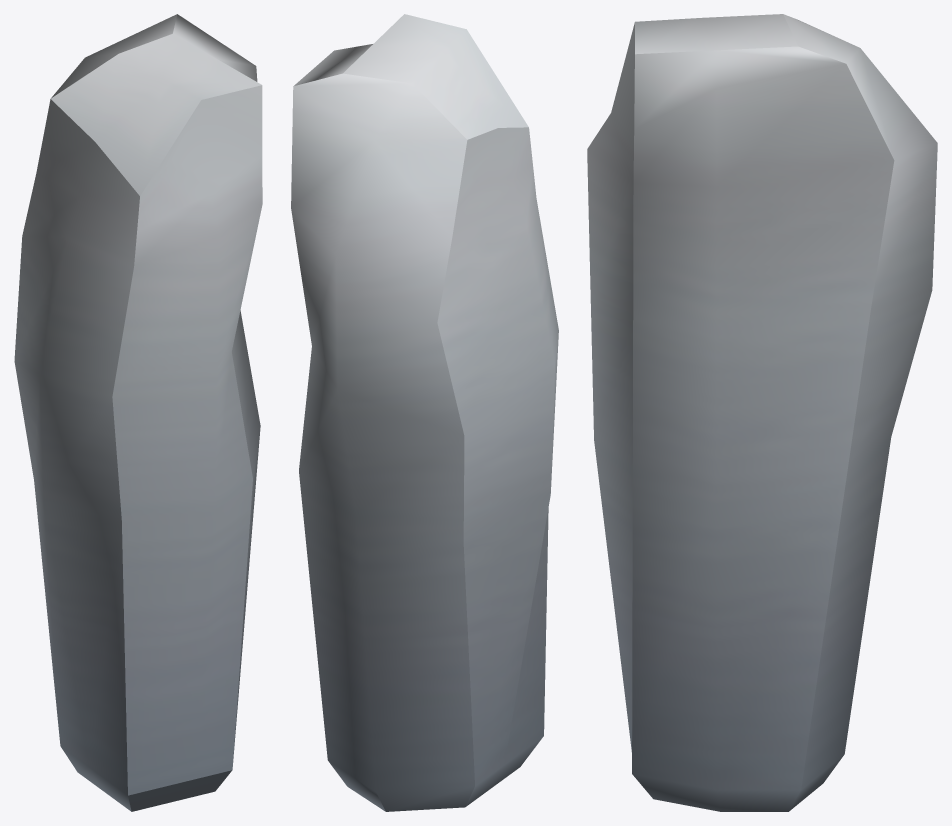
File: Arch1.fbx
3 renders of one model, left to right at view 1: azimuth 30°, elevation 25°; view 2: azimuth 150°, elevation 25°; view 3: azimuth 270°, elevation 25°, orthographic. The views are drawn at different scales.
Parts seen in each view (by area): view 1: polySurface28; view 2: polySurface28; view 3: polySurface28.
Boxes of the visible parts, x1,y1,x2,y2 form: polySurface28: (14, 14, 262, 811); polySurface28: (291, 14, 558, 811); polySurface28: (587, 14, 937, 811).
Bounding box in the file's own units: 2.34 × 7.2 × 2.95.
